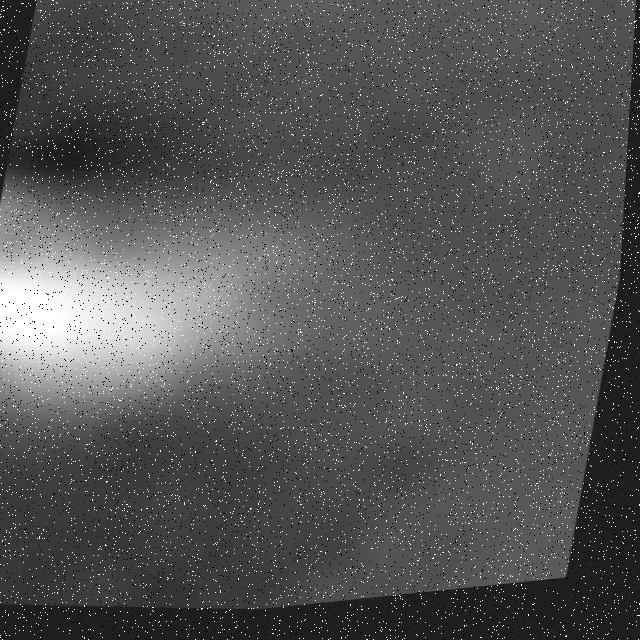person: (1, 154, 353, 440)
